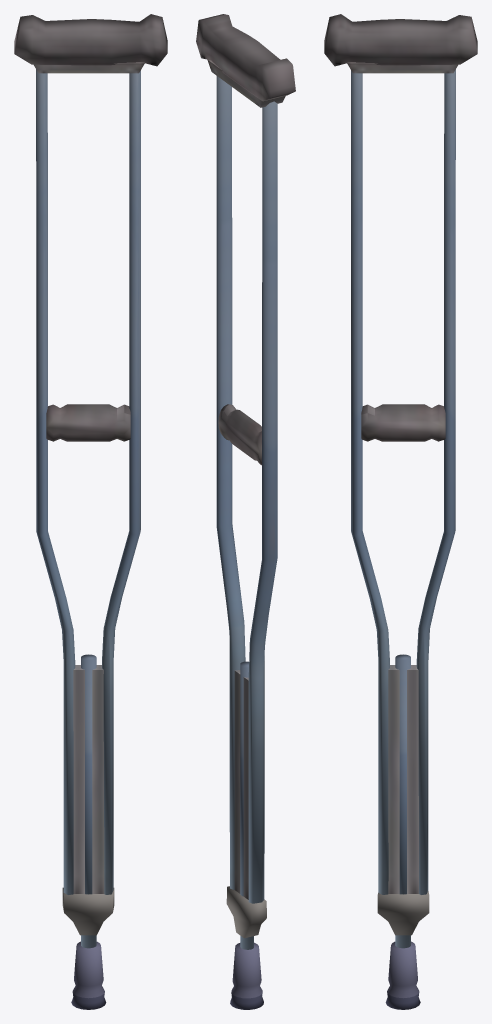
File: AuthenticCrutch.fbx
The picture shows the model from 3 angles, left to right: view 1: azimuth 90°, elevation 25°; view 2: azimuth 210°, elevation 25°; view 3: azimuth 270°, elevation 25°; orthographic projection. The views are drawn at different scales.
Visible parts, largest first — view 1: MedicalCrutch; view 2: MedicalCrutch; view 3: MedicalCrutch.
Boxes of the visible parts, x1,y1,x2,y2 form: MedicalCrutch: (14, 14, 167, 1009); MedicalCrutch: (196, 14, 295, 1009); MedicalCrutch: (324, 14, 477, 1009).
Size of the model in its own units: 0.0232 by 0.7187 by 0.1018.
